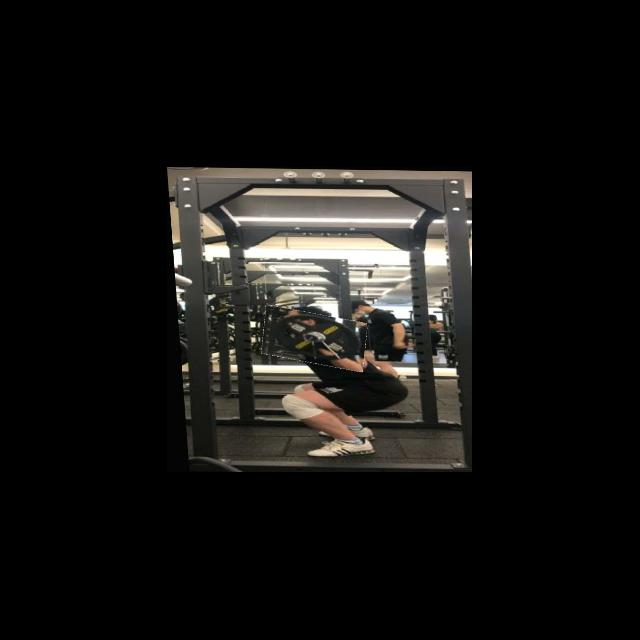barbell: (258, 309, 366, 368)
